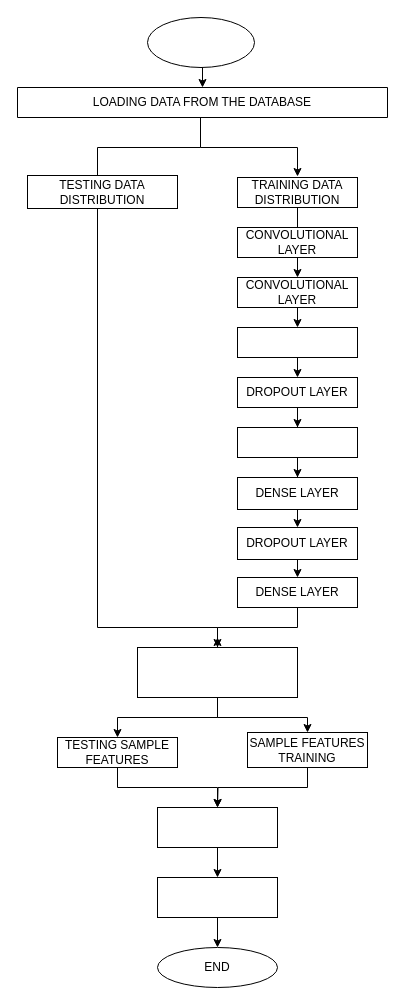
Some shapes in this 405 by 1005 pixel diagram are drawn without their labels. The shapes that lost their labels are listed below. From the top down, each one's centre as x and y in pixels, then its label:
[200,42]: START
[297,342]: MAX POOLING LAYER
[297,442]: FLATTEN LAYER
[217,672]: CNN BASED FEATURE LEARNING NETWORK
[217,827]: CONSTRUCT SVM
[217,897]: ROTATING MACHINE STATUS EVALUATION
